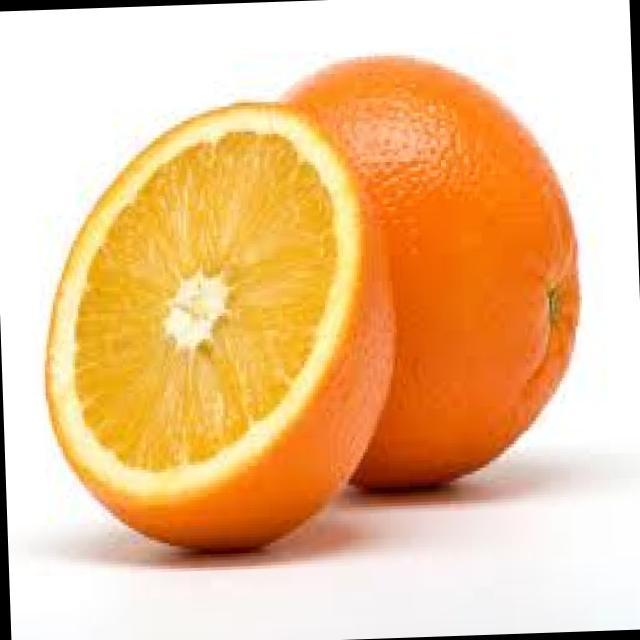Orange: (29, 74, 417, 576)
